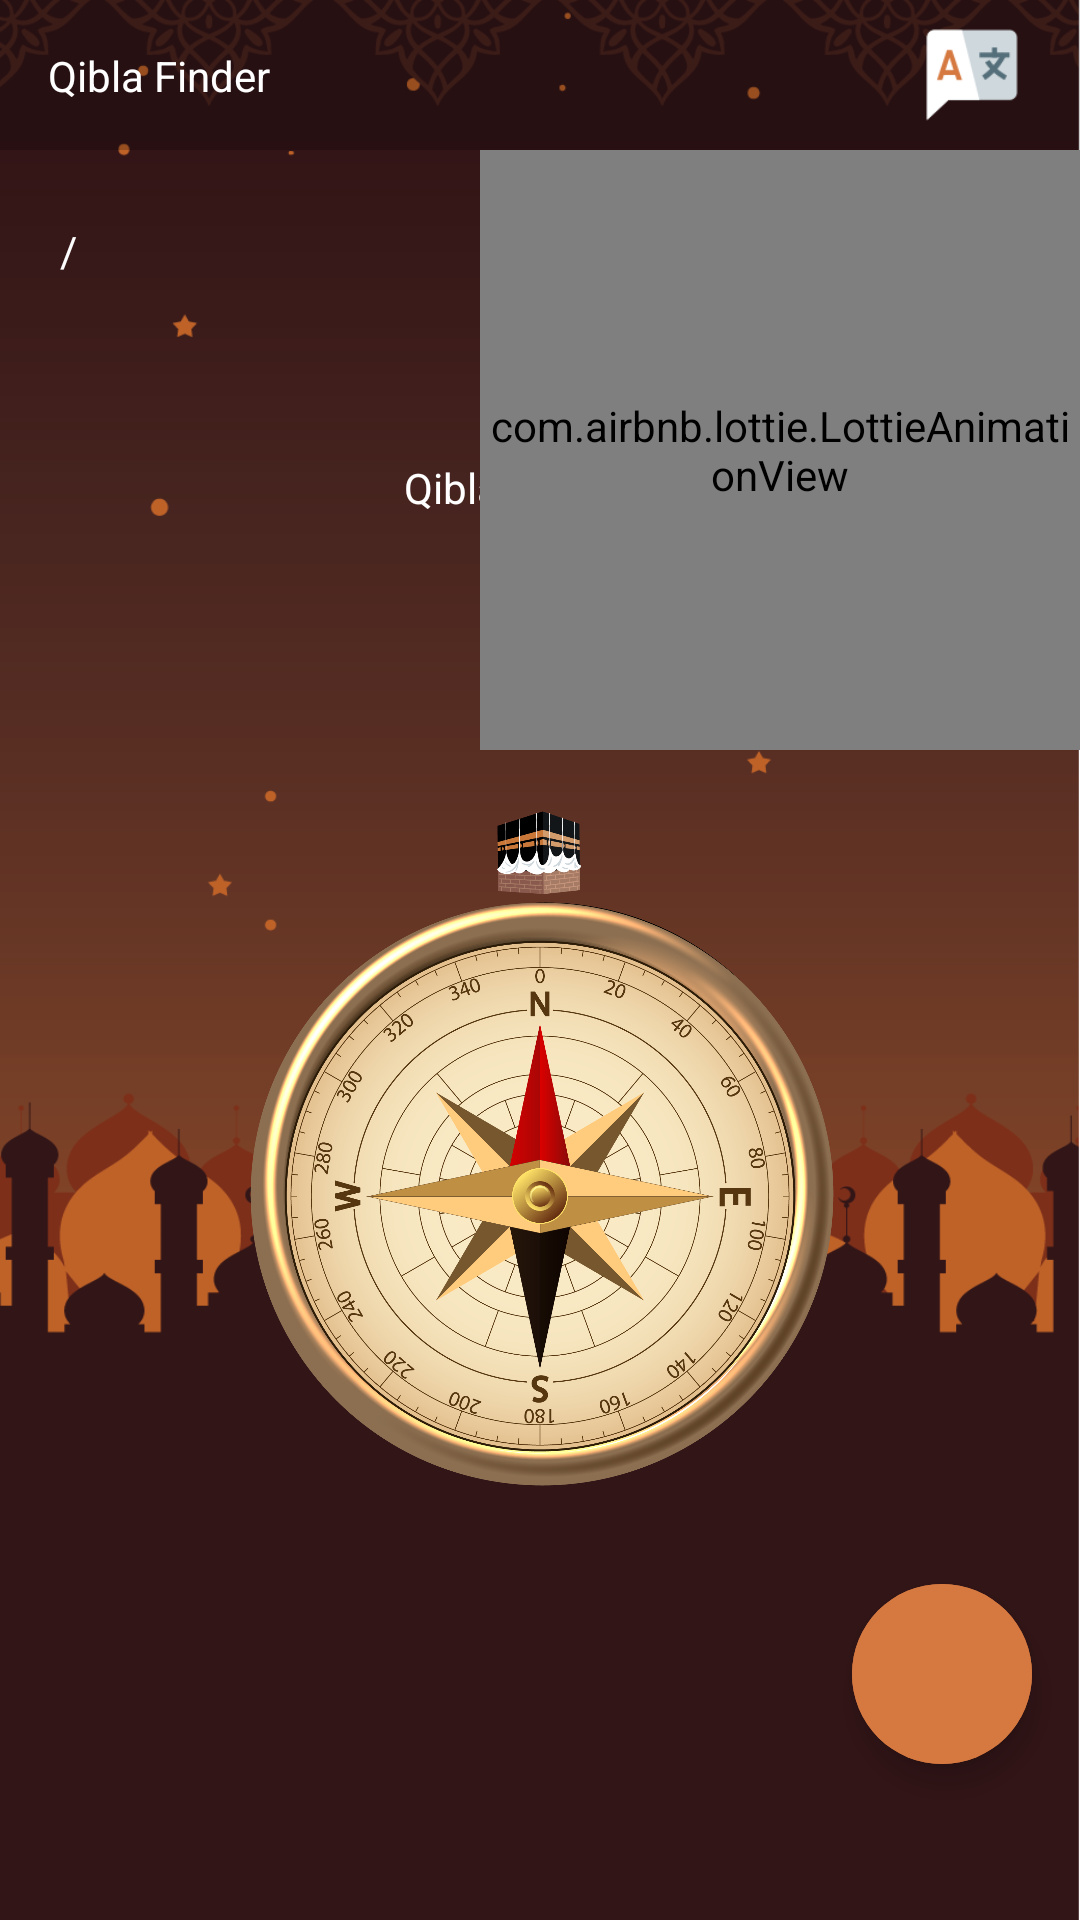

Locate icon controls on the screen. Image size 1080x1920, boxes as (x1, y1, x2, y2).
language: (926, 29, 1018, 120)
